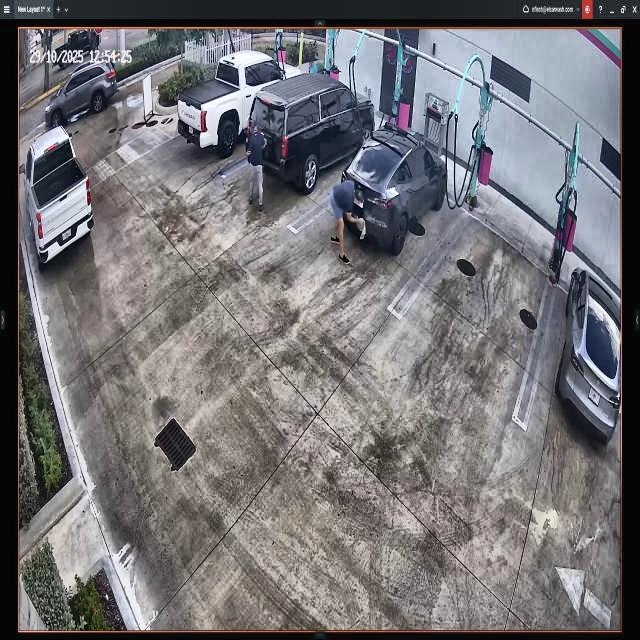Car: (248, 76, 374, 191), (175, 51, 300, 156), (344, 124, 446, 249)
